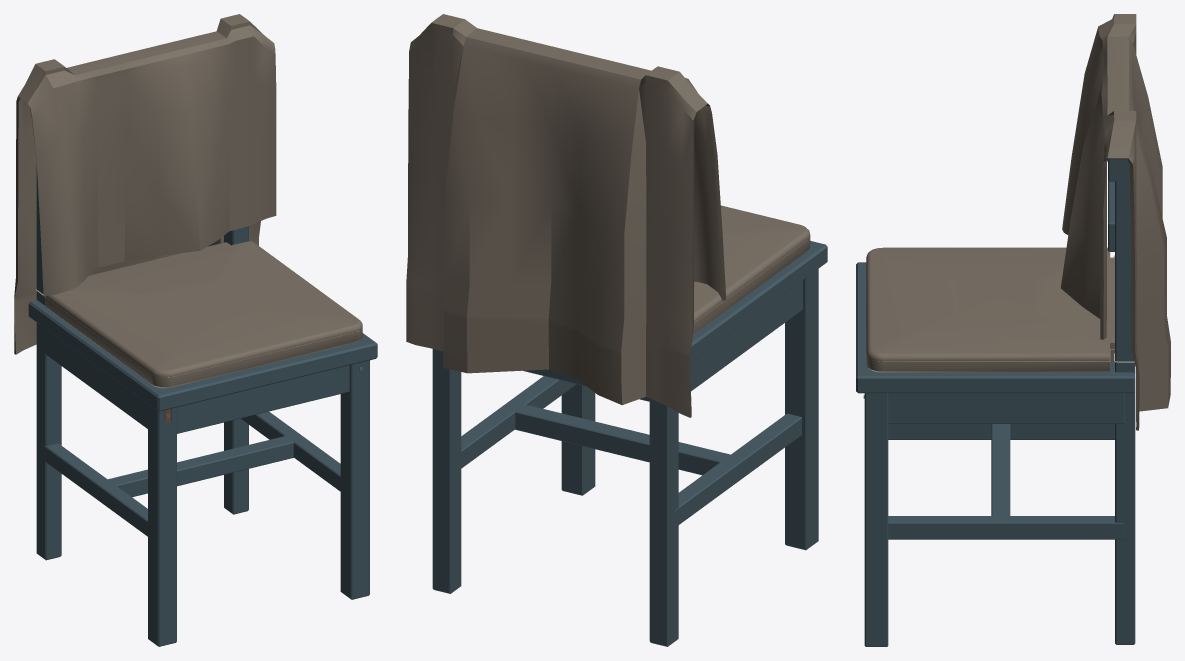
The model's file is kitchen-chair-blue-e382d6f62670.glb.
3 renders of one model, left to right at view 1: azimuth 30°, elevation 25°; view 2: azimuth 150°, elevation 25°; view 3: azimuth 270°, elevation 25°, orthographic. The views are drawn at different scales.
Visible parts, largest first — view 1: cover-cloth, enamel-blue, fabric, paper; view 2: cover-cloth, enamel-blue, fabric; view 3: cover-cloth, enamel-blue, fabric, paper.
Part boxes in pixels (x1=…): cover-cloth: x1=14, y1=14, x2=362, y2=387; enamel-blue: x1=28, y1=167, x2=377, y2=646; fabric: x1=14, y1=72, x2=45, y2=354; paper: x1=36, y1=289, x2=358, y2=388; cover-cloth: x1=406, y1=14, x2=810, y2=417; enamel-blue: x1=432, y1=241, x2=827, y2=646; fabric: x1=690, y1=104, x2=726, y2=417; cover-cloth: x1=866, y1=14, x2=1170, y2=427; enamel-blue: x1=856, y1=159, x2=1135, y2=646; fabric: x1=1100, y1=14, x2=1139, y2=430; paper: x1=867, y1=252, x2=1134, y2=372.
Size of the model in its own units: 0.4478 by 0.85 by 0.4623.
